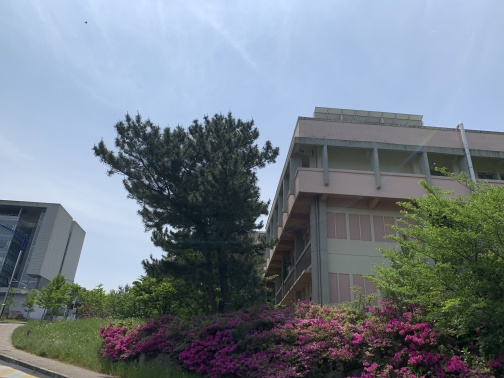College Of Education: (256, 87, 503, 315)
